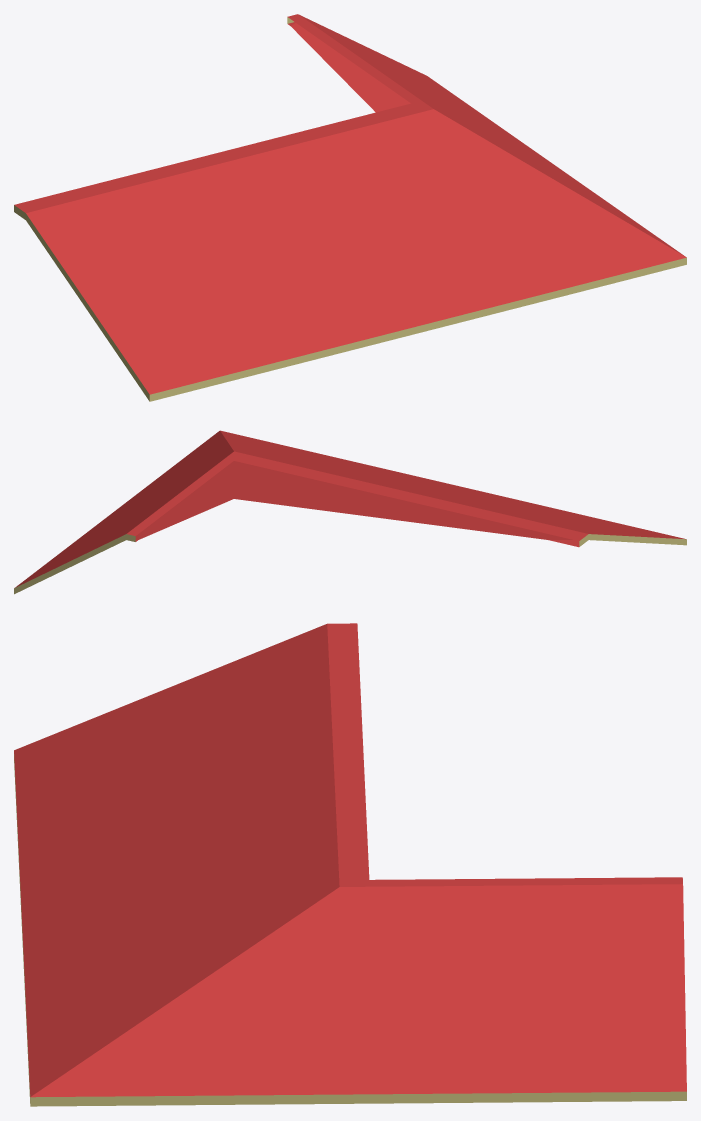
3 renders of one model, top to bottom at view 1: azimuth 30°, elevation 25°; view 2: azimuth 150°, elevation 25°; view 3: azimuth 270°, elevation 25°, orthographic. The views are drawn at different scales.
Bounding box in the file's own units: 8.03 × 6.53 × 1.43.
